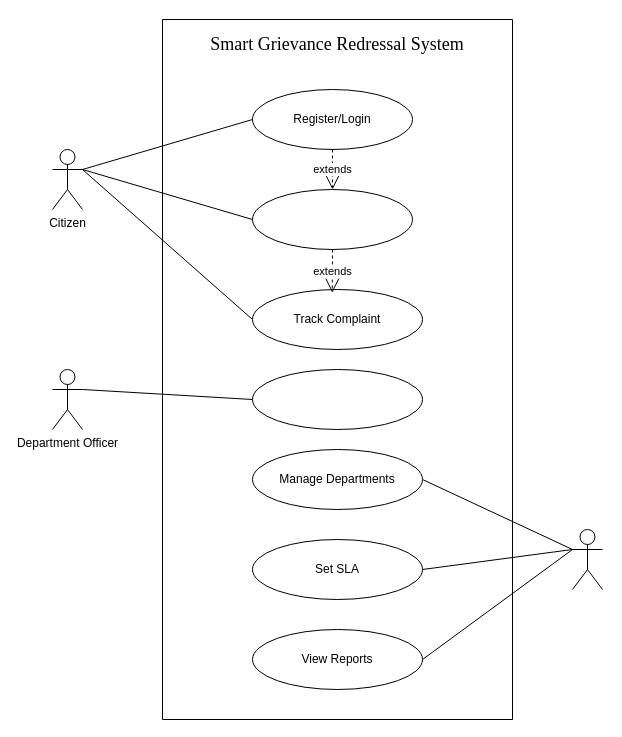
Some shapes in this 622 by 737 pixel diagram are drawn without their labels. Each missing label, with the centre of its shape:
"Admin" belongs at point (587, 559).
"Submit Complaint" belongs at point (332, 219).
"Update Complaint Status" belongs at point (337, 399).
